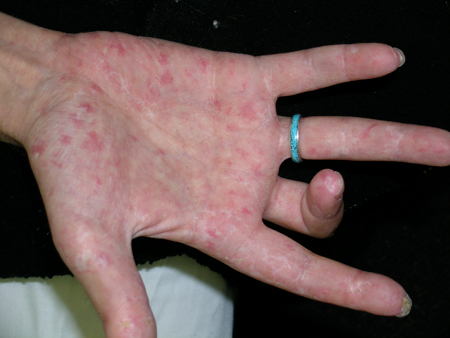Diseased: (63, 34, 306, 297)
